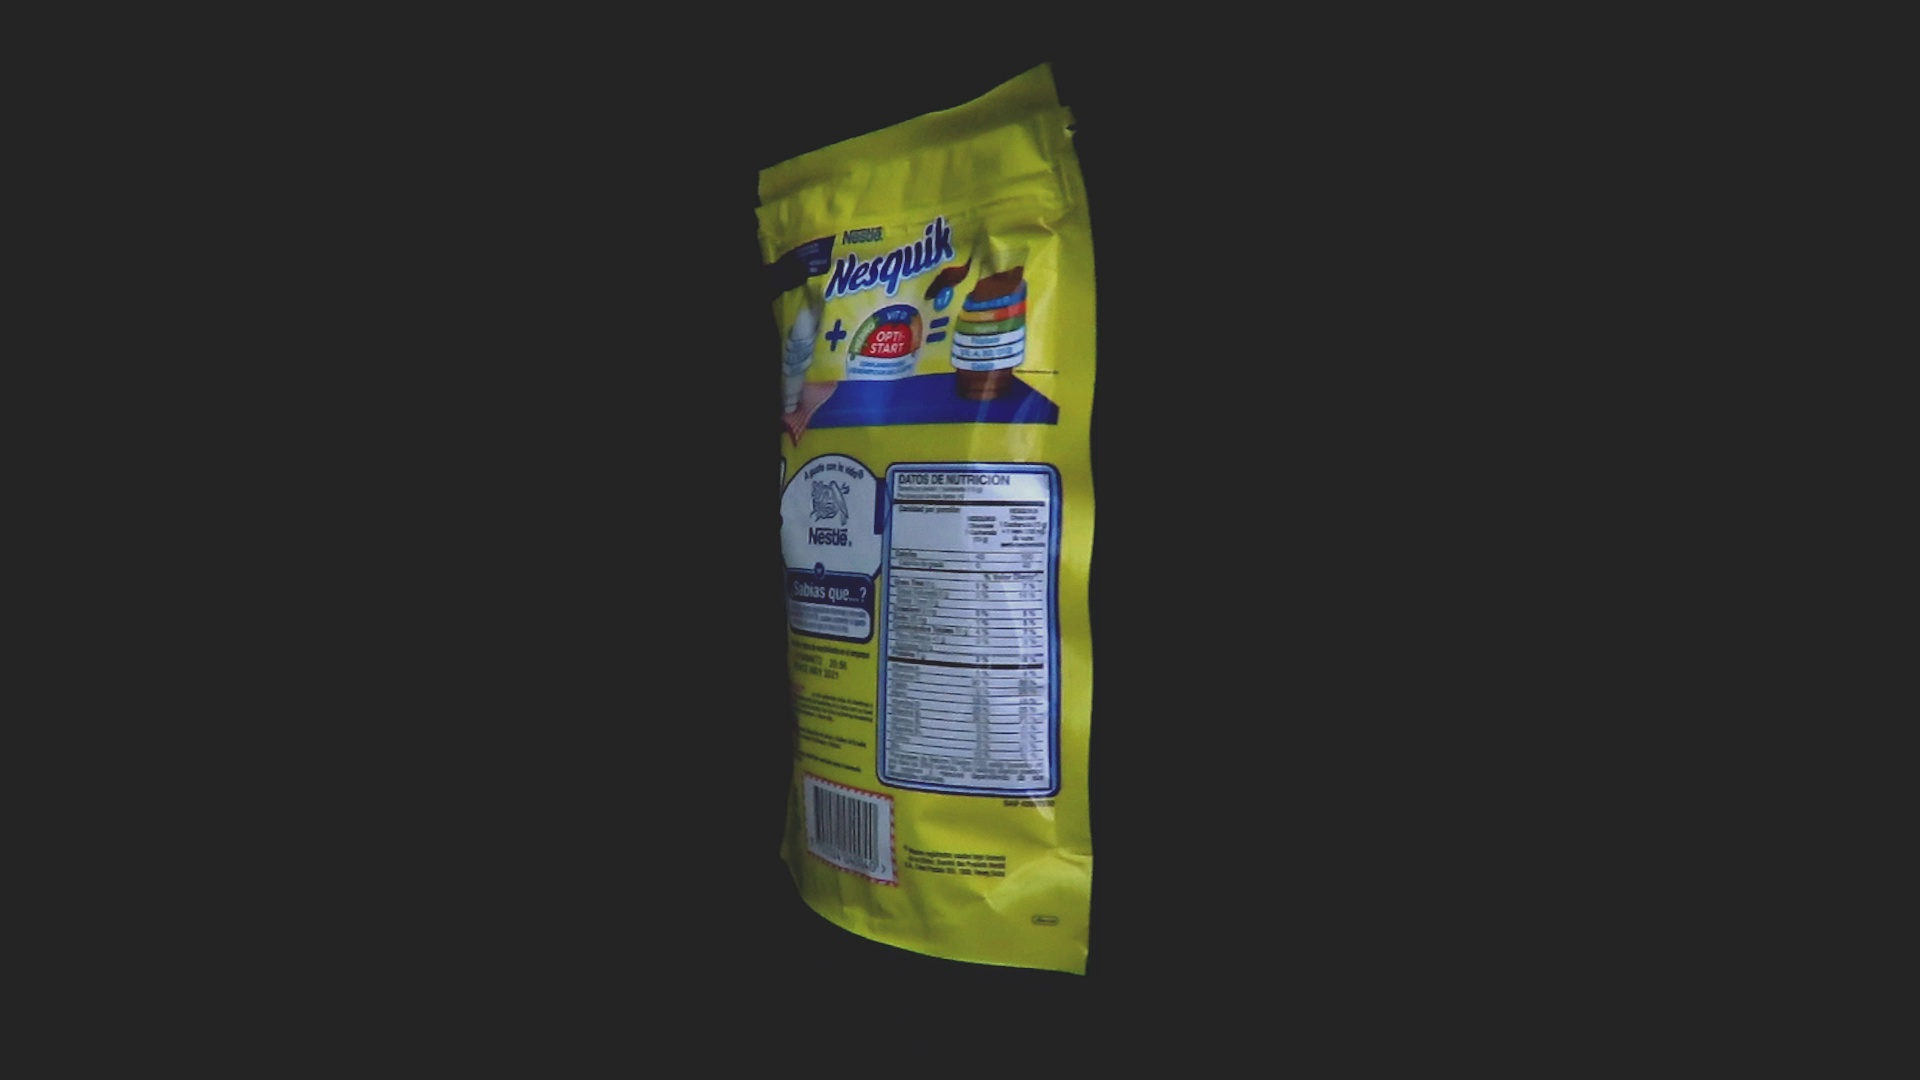COL0170303DYP20000: (749, 57, 1102, 982)
